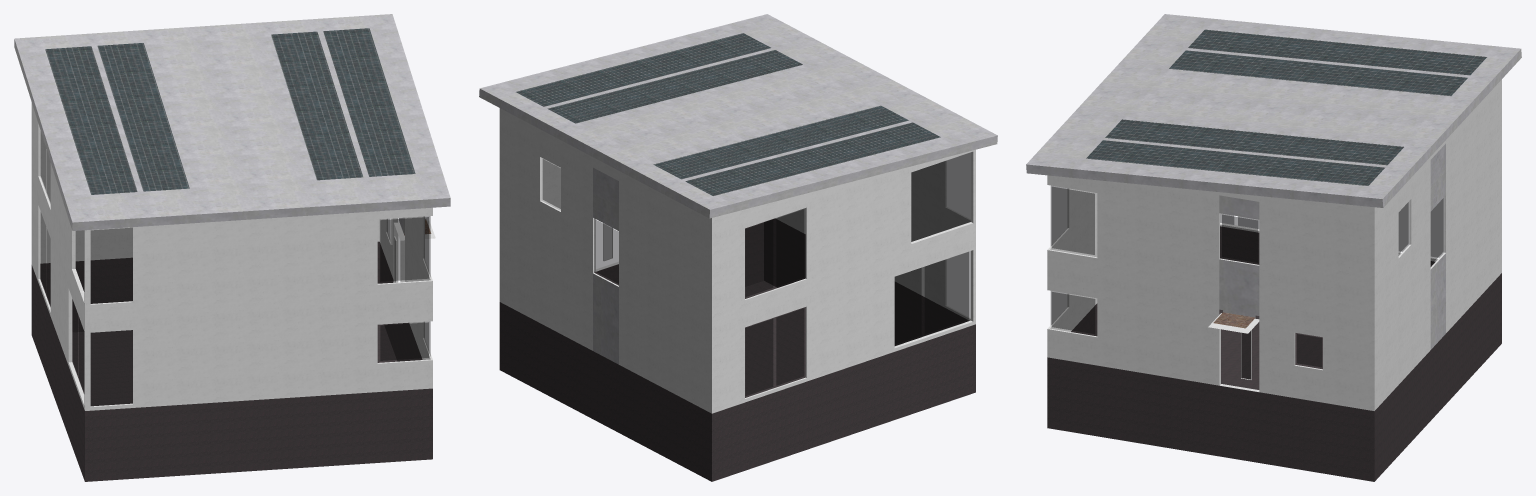
File: reallabor-3d.glb
3 views of the same model, side by side, from view 1: azimuth 30°, elevation 25°; view 2: azimuth 150°, elevation 25°; view 3: azimuth 270°, elevation 25° (orthographic). The views are drawn at different scales.
Visible parts, largest first — view 1: Mesh 67, Mesh 58, Mesh 32, Mesh 75, Mesh 50; view 2: Mesh 67, Mesh 32, Mesh 58, Mesh 75, Mesh 50; view 3: Mesh 67, Mesh 58, Mesh 32, Mesh 75, Mesh 50.
Part boxes in pixels (x1=…): Mesh 67: x1=31, y1=103, x2=435, y2=410; Mesh 58: x1=14, y1=14, x2=450, y2=234; Mesh 32: x1=31, y1=241, x2=432, y2=481; Mesh 75: x1=45, y1=28, x2=415, y2=194; Mesh 50: x1=41, y1=133, x2=430, y2=405; Mesh 67: x1=499, y1=108, x2=975, y2=413; Mesh 32: x1=499, y1=218, x2=975, y2=481; Mesh 58: x1=479, y1=14, x2=997, y2=364; Mesh 75: x1=516, y1=33, x2=940, y2=195; Mesh 50: x1=543, y1=152, x2=970, y2=395; Mesh 67: x1=1047, y1=79, x2=1501, y2=410; Mesh 58: x1=1026, y1=14, x2=1521, y2=349; Mesh 32: x1=1047, y1=226, x2=1501, y2=481; Mesh 75: x1=1086, y1=29, x2=1486, y2=185; Mesh 50: x1=1051, y1=186, x2=1443, y2=379.
Bounding box in the file's own units: 12.68 × 8.22 × 12.7.
Materials: 7 (7 with a texture image).
